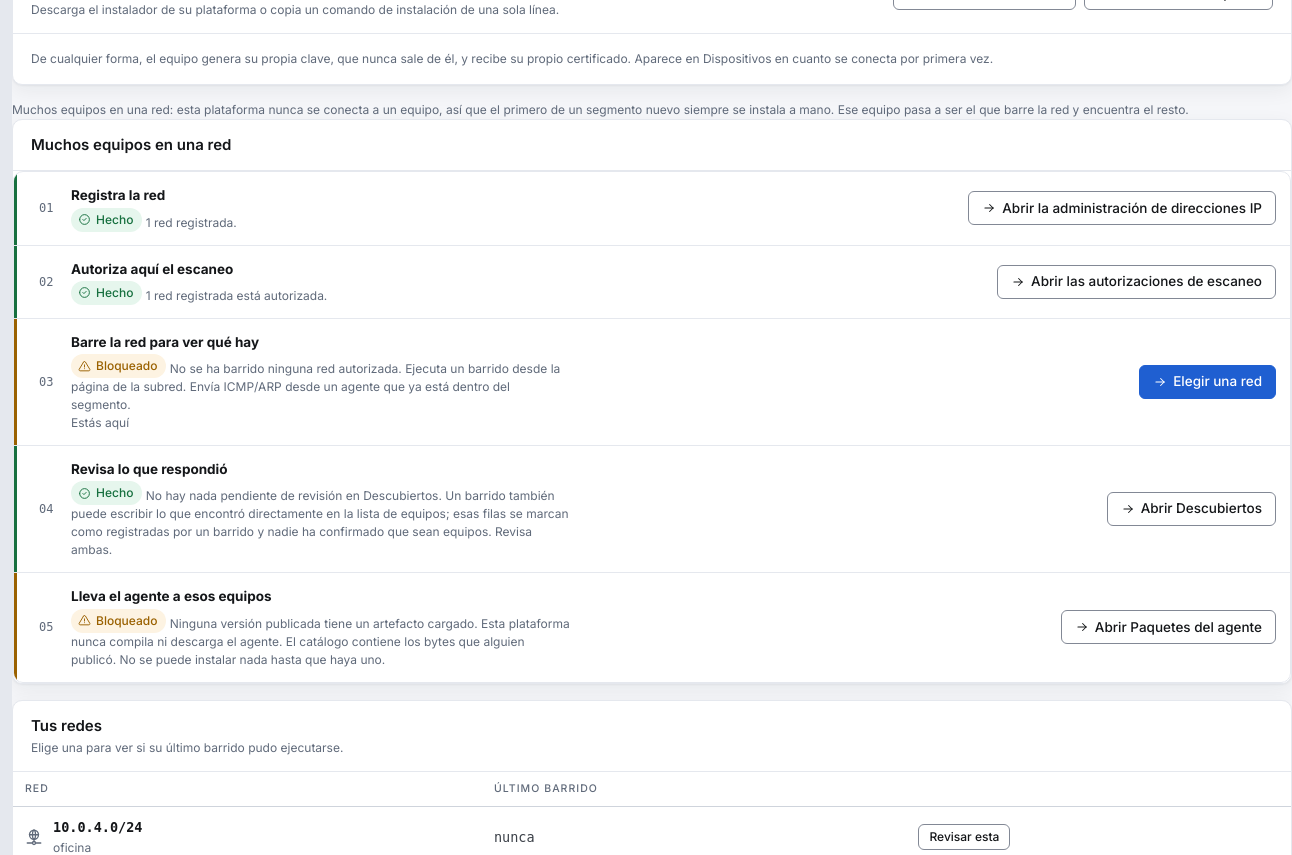
the add-a-computer page in Spanish › explains in Spanish a sweep that no agent could perform
The width and height of the screenshot is (1292, 855).
(page scrolled)
Check: the text "Hecho 1 red registrada." is shown, box [71,208,237,232]
Click the button "Revisar esta" at [964, 837], box [918,824,1010,850]
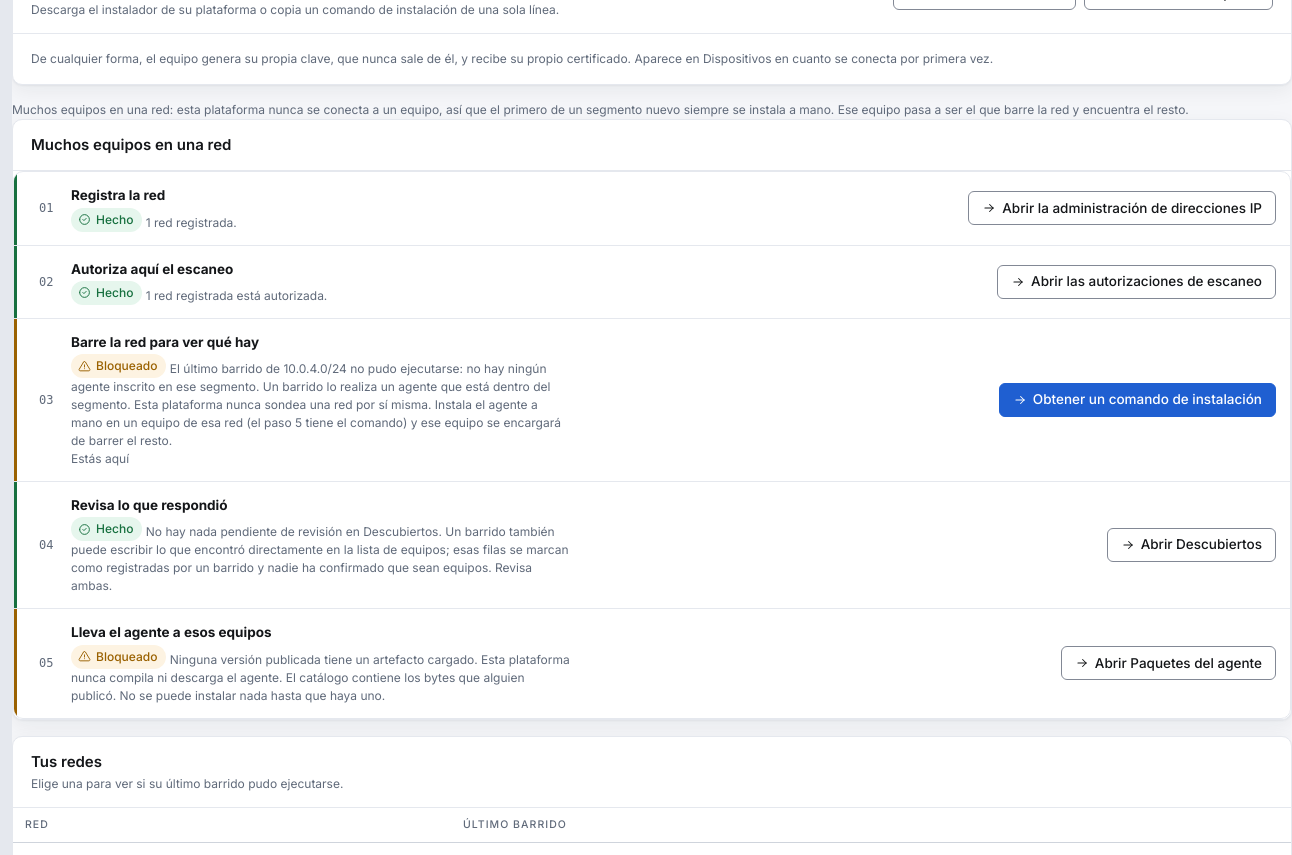
Check: the text "Ninguna versión publicada tiene un artefacto cargado." is shown, box [170,651,478,666]
Check: the text "El último barrido de 10.0.4.0/24 no pudo ejecutarse: no hay ningún agente inscrito" is shown, box [71,360,546,394]
Check: the link "Obtener un comando de instalación" is shown, box [999,383,1276,417]
